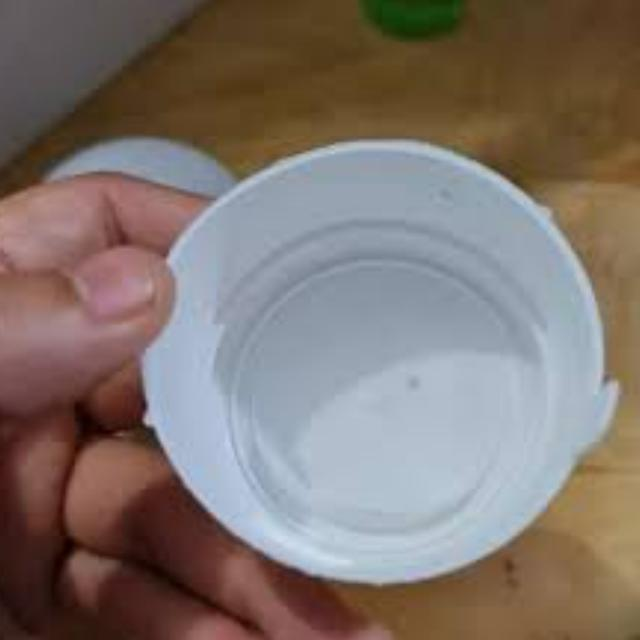TutupGalon: (137, 134, 621, 587)
